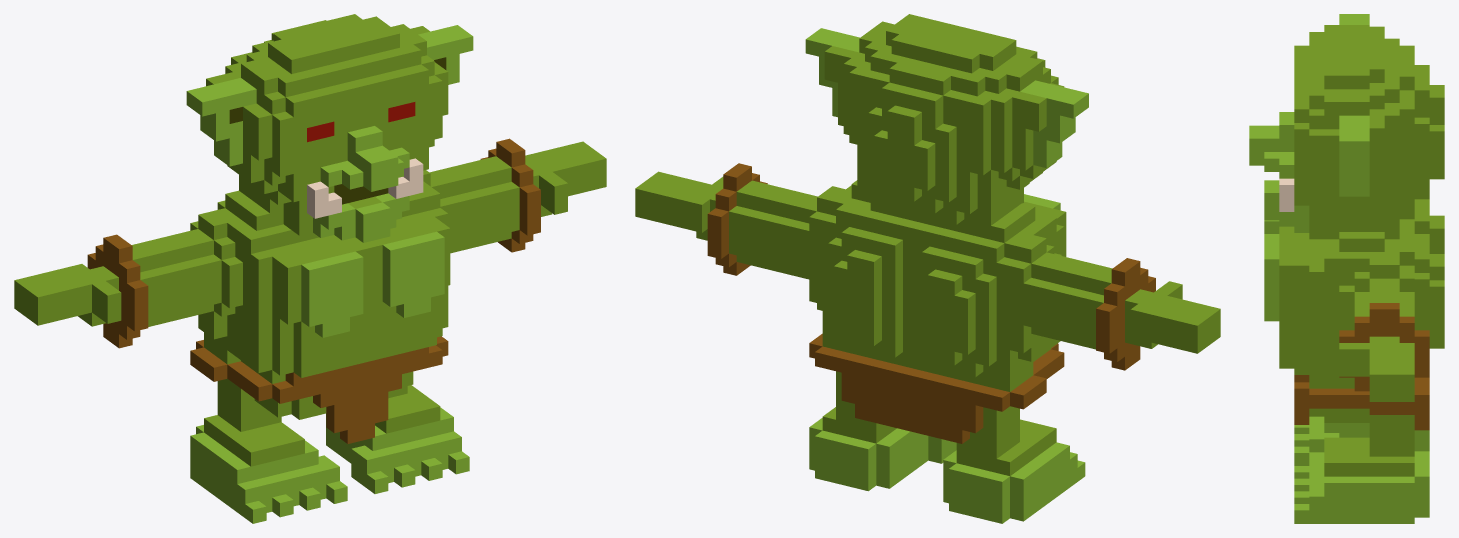
The model's file is GnomeNew.fbx.
3 views of the same model, side by side, from view 1: azimuth 30°, elevation 25°; view 2: azimuth 150°, elevation 25°; view 3: azimuth 270°, elevation 25° (orthographic). The views are drawn at different scales.
Parts seen in each view (by area): view 1: root; view 2: root; view 3: root.
Part boxes in pixels (box(x1,y1,x2,y2)): root: box(14, 14, 606, 523); root: box(635, 14, 1220, 523); root: box(1249, 14, 1444, 523).
Size of the model in its own units: 0.512 by 0.3779 by 0.1585.
1 material, 1 textured.
